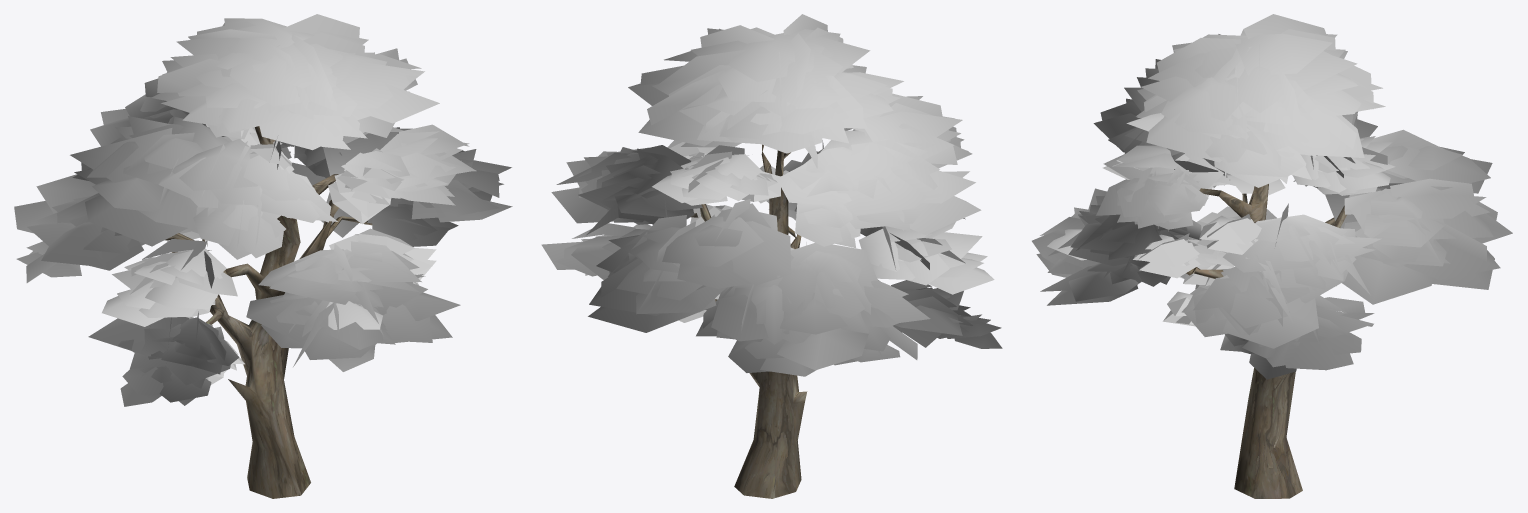
File: SM_Com_Tre_21AL.fbx
3 renders of one model, left to right at view 1: azimuth 30°, elevation 25°; view 2: azimuth 150°, elevation 25°; view 3: azimuth 270°, elevation 25°, orthographic. The views are drawn at different scales.
Parts seen in each view (by area): view 1: SM_Com_Tre_21AL.mo; view 2: SM_Com_Tre_21AL.mo; view 3: SM_Com_Tre_21AL.mo.
Part boxes in pixels (<box>): SM_Com_Tre_21AL.mo: <box>14,14,512,498</box>; SM_Com_Tre_21AL.mo: <box>541,14,1002,498</box>; SM_Com_Tre_21AL.mo: <box>1032,14,1512,498</box>.
Size of the model in its own units: 14.96 by 15.51 by 15.01.
